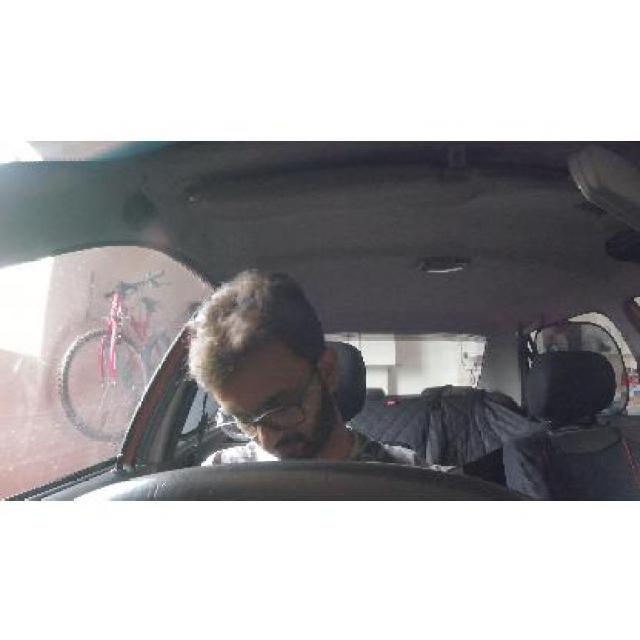drowsy: (169, 268, 352, 466)
